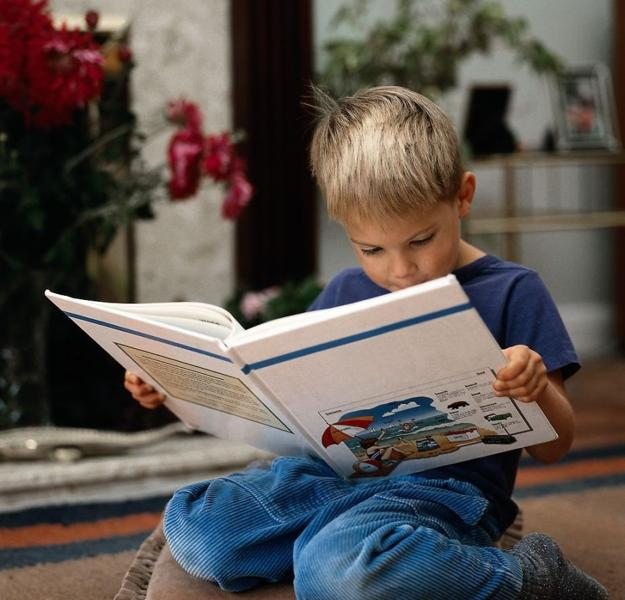person: (123, 87, 611, 600)
